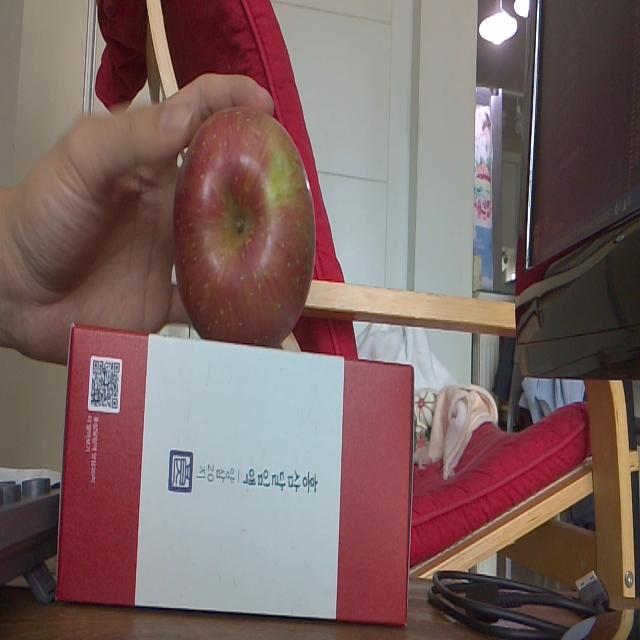apple: (173, 95, 321, 347)
